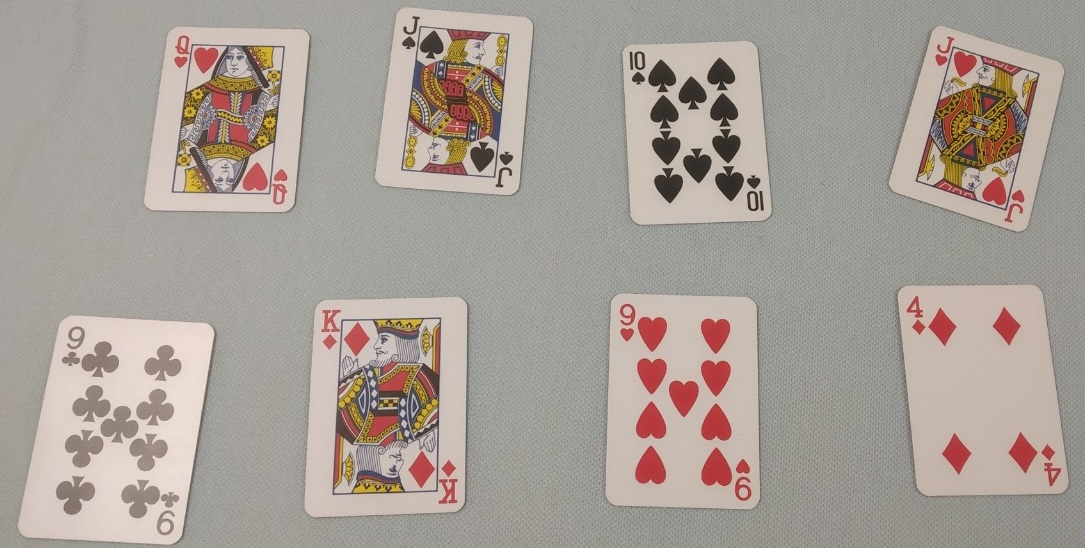four: (880, 276, 1078, 520)
jack: (881, 13, 1067, 253), (361, 2, 549, 209)
king: (292, 283, 497, 528)
nine: (11, 291, 209, 548), (586, 280, 778, 522)
queen: (142, 10, 311, 232)
ten: (612, 29, 784, 255)
